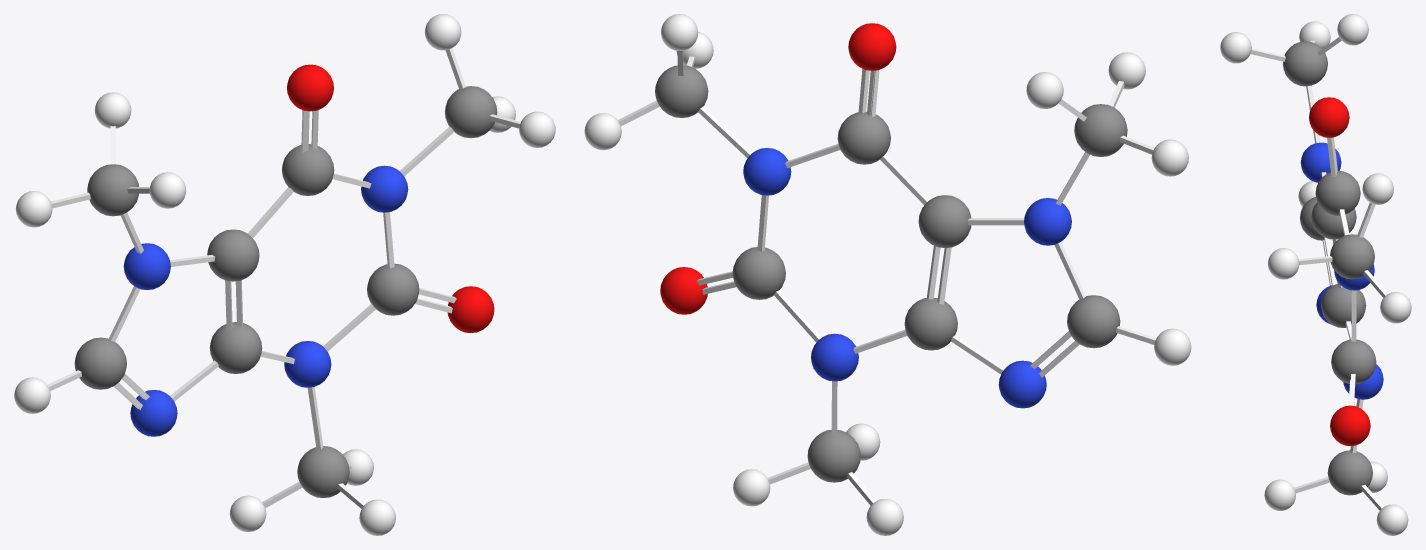
Rendered from Caffeine_BOcorr._Sizecorrglb.glb.
The picture shows the model from 3 angles, left to right: view 1: azimuth 30°, elevation 25°; view 2: azimuth 150°, elevation 25°; view 3: azimuth 270°, elevation 25°; orthographic projection. The views are drawn at different scales.
Parts seen in each view (by area): view 1: nodes[1], nodes[7], nodes[4], nodes[13], nodes[9], nodes[3], nodes[5], nodes[12], nodes[11], nodes[0], nodes[6], nodes[2] (+11 smaller); view 2: nodes[7], nodes[4], nodes[3], nodes[1], nodes[5], nodes[9], nodes[13], nodes[12], nodes[11], nodes[2], nodes[6], nodes[0] (+12 smaller); view 3: nodes[12], nodes[13], nodes[9], nodes[1], nodes[3], nodes[5], nodes[11], nodes[10], nodes[6], nodes[4], nodes[18], nodes[19] (+15 smaller).
Part boxes in pixels (<box>): nodes[1]: <box>367,263,419,315</box>; nodes[7]: <box>74,337,126,389</box>; nodes[4]: <box>207,229,259,281</box>; nodes[13]: <box>445,86,497,138</box>; nodes[9]: <box>297,446,349,497</box>; nodes[3]: <box>282,144,334,195</box>; nodes[5]: <box>209,322,262,373</box>; nodes[12]: <box>87,164,138,216</box>; nodes[11]: <box>287,64,333,111</box>; nodes[0]: <box>361,165,408,212</box>; nodes[6]: <box>123,243,170,289</box>; nodes[2]: <box>284,341,331,387</box>; nodes[7]: <box>1067,295,1120,348</box>; nodes[4]: <box>918,195,971,247</box>; nodes[3]: <box>837,112,890,164</box>; nodes[1]: <box>732,247,785,299</box>; nodes[5]: <box>904,298,957,350</box>; nodes[9]: <box>807,430,860,482</box>; nodes[13]: <box>655,65,708,117</box>; nodes[12]: <box>1074,104,1127,156</box>; nodes[11]: <box>848,23,896,70</box>; nodes[2]: <box>811,333,858,381</box>; nodes[6]: <box>1024,198,1071,245</box>; nodes[0]: <box>743,148,791,195</box>; nodes[12]: <box>1283,41,1327,86</box>; nodes[13]: <box>1330,234,1374,279</box>; nodes[9]: <box>1327,450,1372,495</box>; nodes[1]: <box>1331,339,1376,384</box>; nodes[3]: <box>1315,171,1360,215</box>; nodes[5]: <box>1321,284,1366,327</box>; nodes[11]: <box>1309,97,1349,137</box>; nodes[10]: <box>1330,405,1370,445</box>; nodes[6]: <box>1300,142,1341,182</box>; nodes[4]: <box>1311,202,1356,239</box>; nodes[18]: <box>1337,14,1368,45</box>; nodes[19]: <box>1220,32,1251,63</box>.
Bounding box in the file's own units: 0.4418 × 0.3726 × 0.156.
